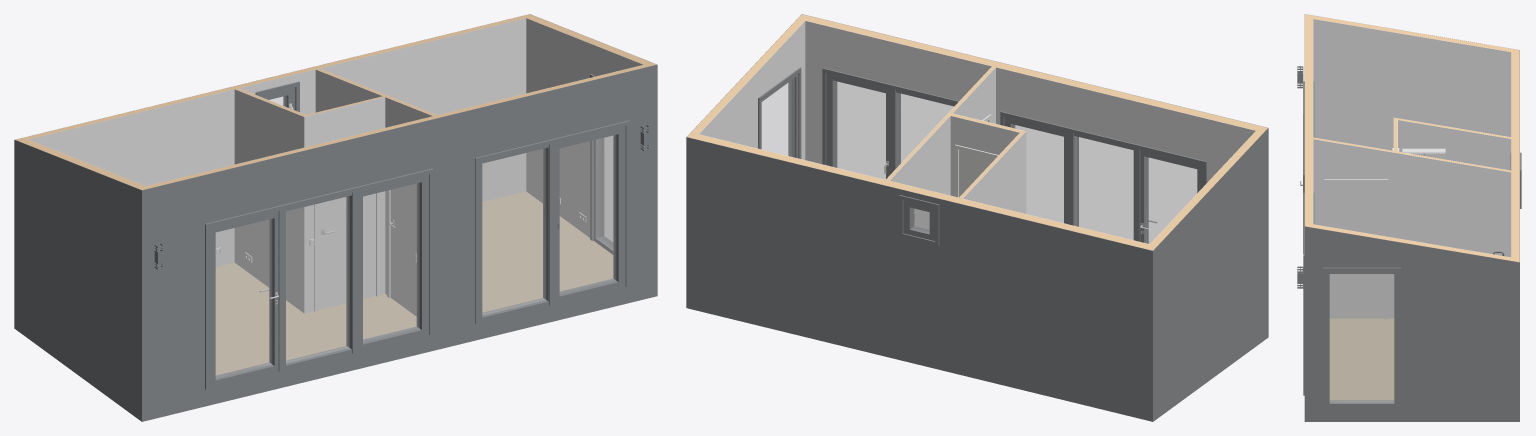
File: Ireland_hairdressing saloon_(3,0x7,0m)_R01.fbx
The picture shows the model from 3 angles, left to right: view 1: azimuth 30°, elevation 25°; view 2: azimuth 150°, elevation 25°; view 3: azimuth 270°, elevation 25°; orthographic projection. The views are drawn at different scales.
Parts seen in each view (by area): view 1: IfcWall/Part:2319977, IfcWall/Part:2368366, IfcWall/Part:2397154, IfcSlab/Part:2319985, IfcWindow/Langai (Akrusta):1000x2100x120 (dešininis):2409843, IfcWindow/Langai (Akrusta):1000x2100x120 (kairinis):2572630, IfcWindow/Langai (Akrusta):1000x2100x120:2572717, IfcDoor/Exterior door:1000x2100x120 (kairinės):2439432, IfcWindow/Langai (Akrusta):1000x2100x120:2572804, IfcWall/Part:2568958, IfcWall/Part:2571366, IfcDoor/Interior door:800x2100 x 120 (dešininės):2566125 (+10 smaller); view 2: IfcWall/Part:2397155, IfcWall/Part:2368366, IfcWall/Part:2319976, IfcWindow/Langai (Akrusta):1000x2100x120 (kairinis):2572630, IfcWindow/Langai (Akrusta):1000x2100x120:2572804, IfcWindow/Langai (Akrusta):1000x2100x120 (dešininis):2409843, IfcDoor/Exterior door:1000x2100x120 (kairinės):2439432, IfcWall/Part:2568958, IfcWindow/Langai (Akrusta):1000x2100x120:2572504, IfcWindow/Langai (Akrusta):1000x2100x120:2572717, IfcWall/Part:2397156, IfcWall/Part:2319978 (+10 smaller); view 3: IfcWall/Part:2568959, IfcWall/Part:2368365, IfcWall/Part:2569021, IfcWindow/Langai (Akrusta):1000x2100x120:2572504, IfcDoor/Interior door:800x2100 x 120 (kairinės):2571701, IfcSlab/Part:2319985, IfcWall/Part:2571367, IfcWall/Part:2397156, IfcWall/Part:2319978, IfcWall/Part:2568960, IfcWall/Part:2368367, IfcWall/Part:2569022 (+6 smaller).
Part boxes in pixels (<box>): IfcWall/Part:2319977: <box>141,64,657,421</box>; IfcWall/Part:2368366: <box>14,140,141,421</box>; IfcWall/Part:2397154: <box>28,18,526,266</box>; IfcSlab/Part:2319985: <box>215,191,613,375</box>; IfcWindow/Langai (Akrusta):1000x2100x120 (dešininis):2409843: <box>346,168,433,353</box>; IfcWindow/Langai (Akrusta):1000x2100x120 (kairinis):2572630: <box>543,120,629,305</box>; IfcWindow/Langai (Akrusta):1000x2100x120:2572717: <box>475,138,556,323</box>; IfcDoor/Exterior door:1000x2100x120 (kairinės):2439432: <box>205,204,285,389</box>; IfcWindow/Langai (Akrusta):1000x2100x120:2572804: <box>278,187,359,371</box>; IfcWall/Part:2568958: <box>526,18,643,237</box>; IfcWall/Part:2571366: <box>234,89,304,313</box>; IfcDoor/Interior door:800x2100 x 120 (dešininės):2566125: <box>314,192,380,311</box>; IfcWall/Part:2397155: <box>686,137,1153,421</box>; IfcWall/Part:2368366: <box>1153,128,1268,421</box>; IfcWall/Part:2319976: <box>805,20,1255,182</box>; IfcWindow/Langai (Akrusta):1000x2100x120 (kairinis):2572630: <box>822,68,900,179</box>; IfcWindow/Langai (Akrusta):1000x2100x120:2572804: <box>1067,128,1140,241</box>; IfcWindow/Langai (Akrusta):1000x2100x120 (dešininis):2409843: <box>1000,111,1078,226</box>; IfcDoor/Exterior door:1000x2100x120 (kairinės):2439432: <box>1133,145,1206,243</box>; IfcWall/Part:2568958: <box>699,21,805,159</box>; IfcWindow/Langai (Akrusta):1000x2100x120:2572504: <box>758,67,801,158</box>; IfcWindow/Langai (Akrusta):1000x2100x120:2572717: <box>889,84,958,175</box>; IfcWall/Part:2397156: <box>687,132,1156,250</box>; IfcWall/Part:2319978: <box>798,14,1267,132</box>; IfcWall/Part:2568959: <box>1305,226,1519,421</box>; IfcWall/Part:2368365: <box>1313,19,1511,150</box>; IfcWall/Part:2569021: <box>1313,139,1511,318</box>; IfcWindow/Langai (Akrusta):1000x2100x120:2572504: <box>1323,267,1401,407</box>; IfcDoor/Interior door:800x2100 x 120 (kairinės):2571701: <box>1324,179,1388,319</box>; IfcSlab/Part:2319985: <box>1329,318,1394,400</box>; IfcWall/Part:2571367: <box>1398,120,1511,170</box>; IfcWall/Part:2397156: <box>1511,49,1519,262</box>; IfcWall/Part:2319978: <box>1305,14,1312,227</box>; IfcWall/Part:2568960: <box>1313,224,1511,260</box>; IfcWall/Part:2368367: <box>1313,15,1511,51</box>; IfcWall/Part:2569022: <box>1313,137,1511,172</box>.
Bounding box in the file's own units: 702 × 300 × 312.
